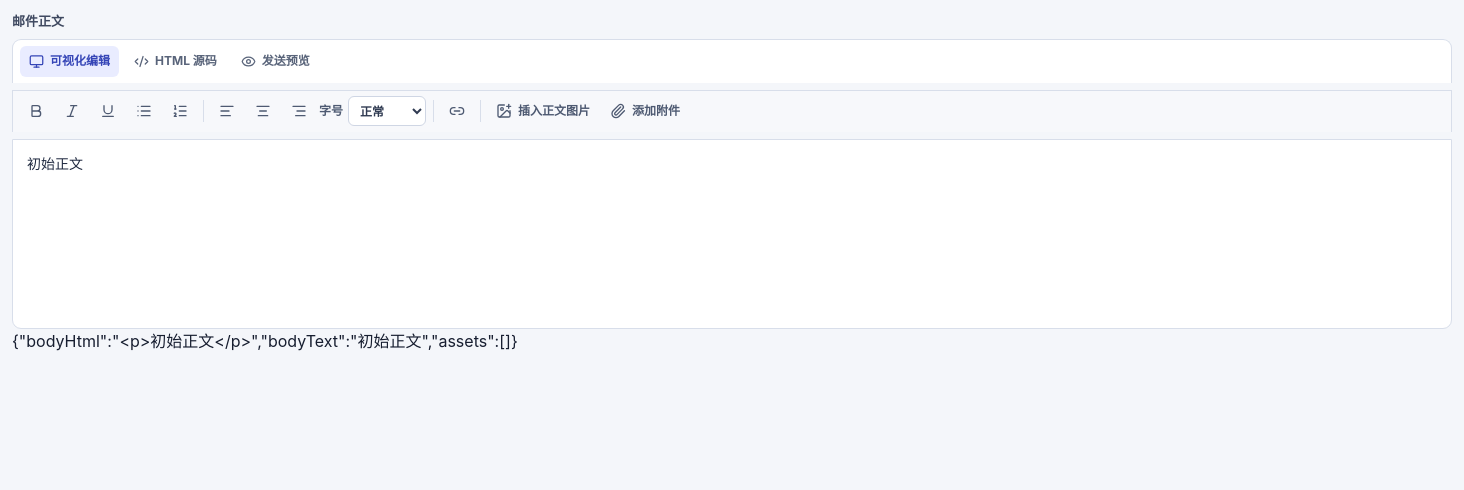
MailRichEditor › edits complete HTML source and derives text through preview
Click the button "HTML 源码": [175, 61] box x1=125 y1=46 x2=226 y2=76
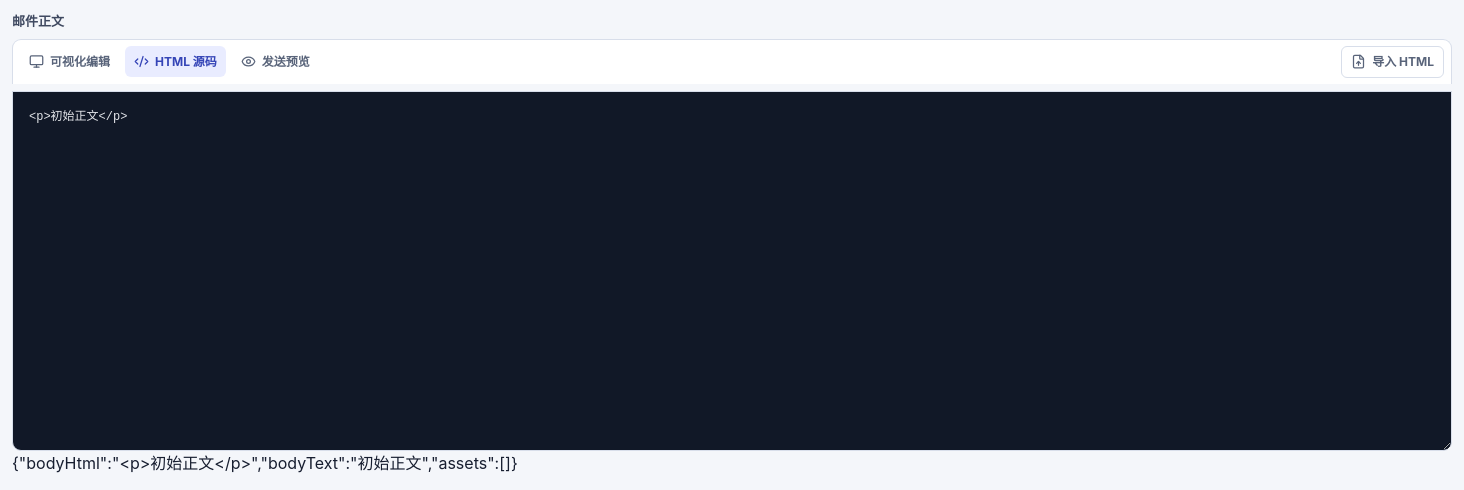
Replace the text in the text box named "HTML 邮件源码" with "<!DOCTYPE html><html><body><h1>欢迎回来</h1></body></html>": [732, 270] box x1=12 y1=90 x2=1452 y2=450
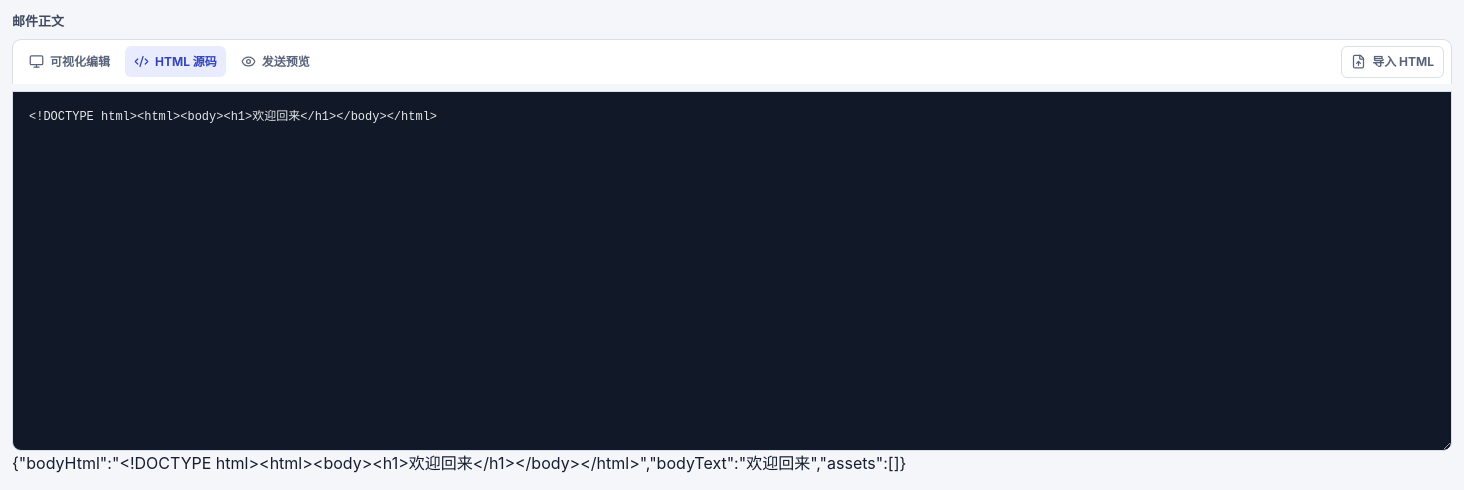
Expected: the text with test id "value" shows "\"bodyText\":\"欢迎回来\"", x1=12 y1=452 x2=906 y2=472
Expected: the text with test id "value" shows "<!DOCTYPE html>", x1=12 y1=452 x2=906 y2=472
